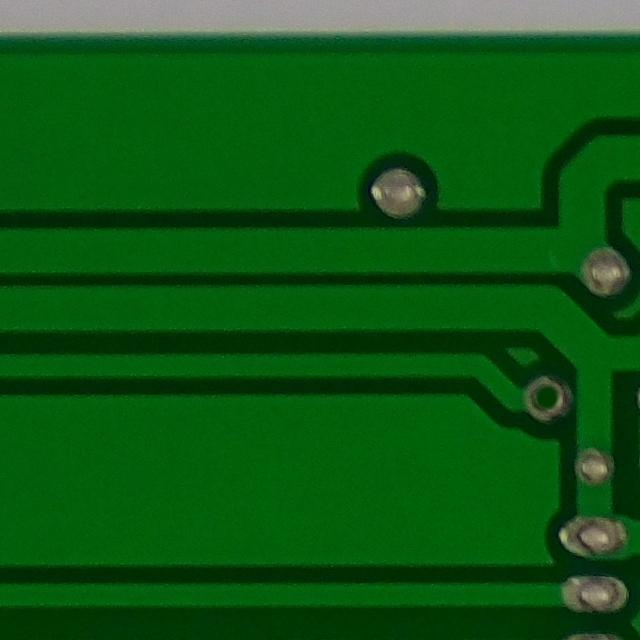missing_hole: (518, 370, 574, 429)
